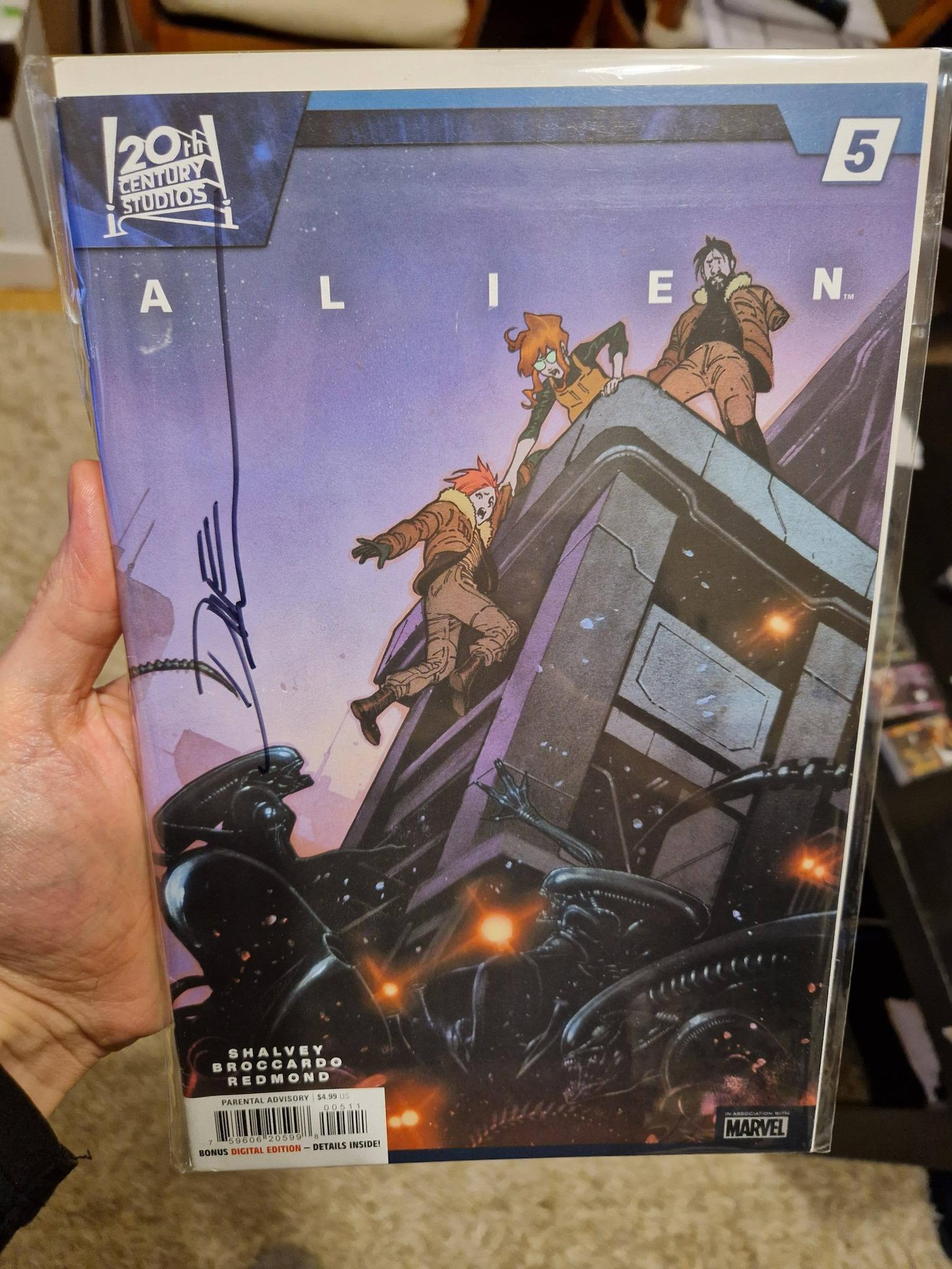comic: (44, 33, 952, 1172)
